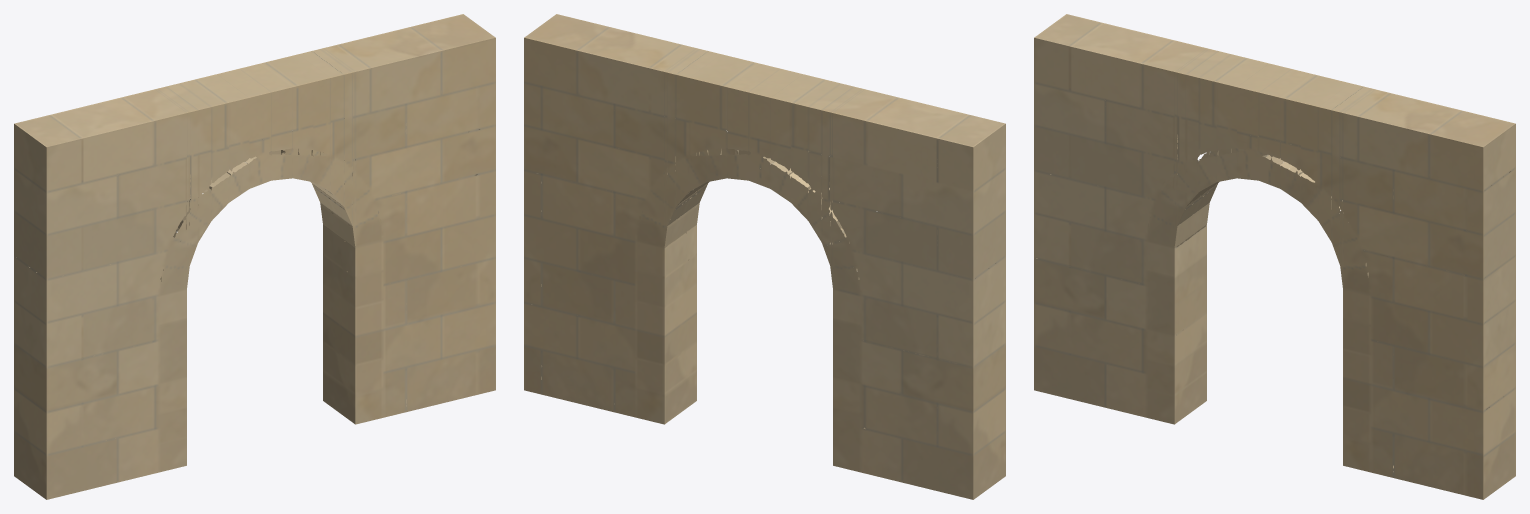
3 renders of one model, left to right at view 1: azimuth 30°, elevation 25°; view 2: azimuth 150°, elevation 25°; view 3: azimuth 330°, elevation 25°, orthographic.
Parts seen in each view (by area): view 1: L10_Baked; view 2: L10_Baked; view 3: L10_Baked.
Boxes of the visible parts, x1,y1,x2,y2 form: L10_Baked: [14, 14, 495, 499]; L10_Baked: [524, 14, 1005, 499]; L10_Baked: [1034, 14, 1515, 499].
Size of the model in its own units: 400 by 300 by 50.
